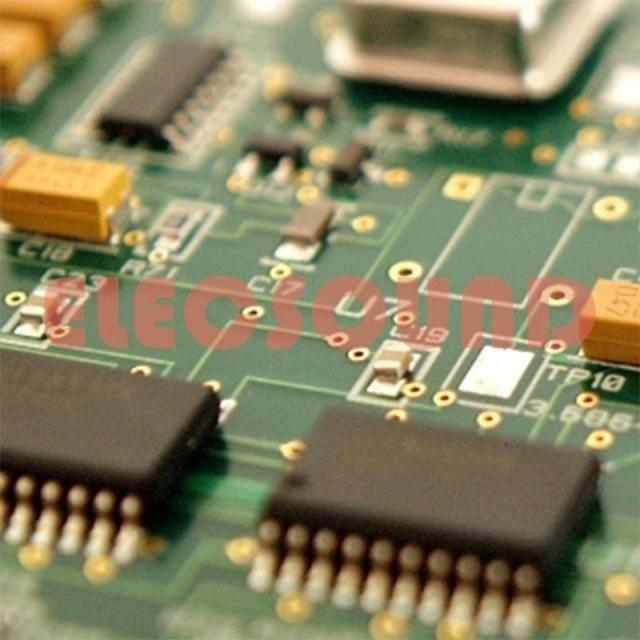pcb: (1, 0, 638, 638), (580, 276, 638, 366)
